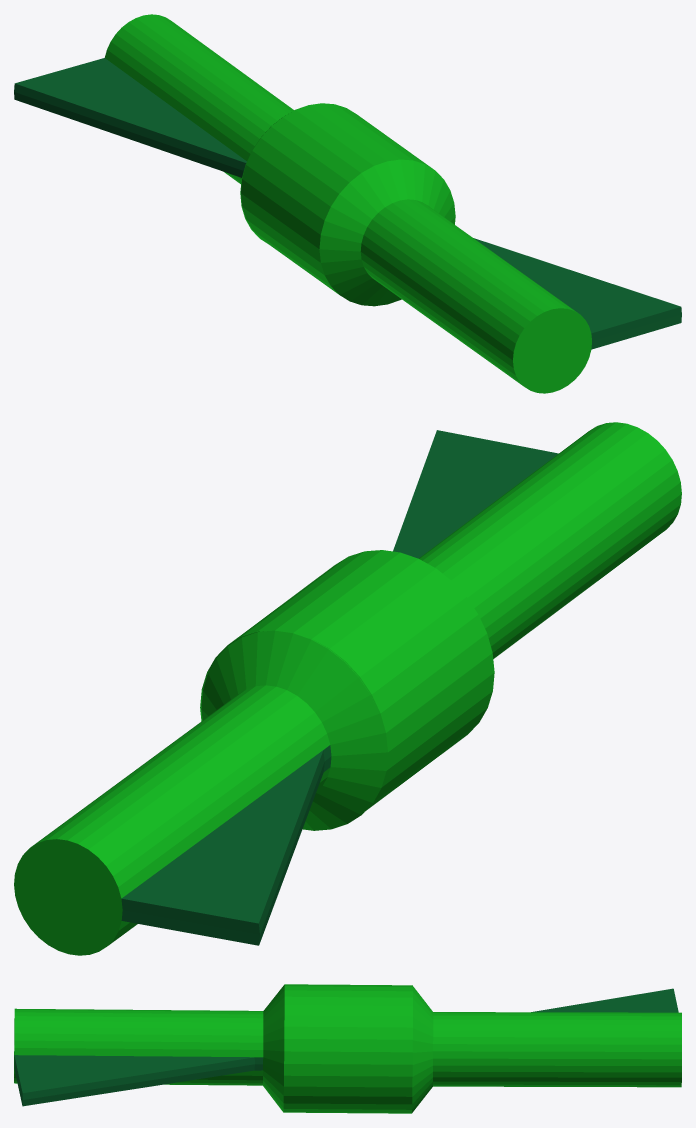
Rendered from brazoC-cilindroPlayerBien.glb.
3 renders of one model, top to bottom at view 1: azimuth 30°, elevation 25°; view 2: azimuth 150°, elevation 25°; view 3: azimuth 270°, elevation 25°, orthographic. The views are drawn at different scales.
Visible parts, largest first — view 1: Cylinder; view 2: Cylinder; view 3: Cylinder.
Part boxes in pixels (<box>): Cylinder: <box>14,14,681,393</box>; Cylinder: <box>14,422,681,955</box>; Cylinder: <box>14,984,681,1113</box>.
Bounding box in the file's own units: 1.88 × 0.9588 × 4.94.
